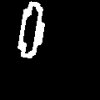chain: (18, 2, 44, 57)
